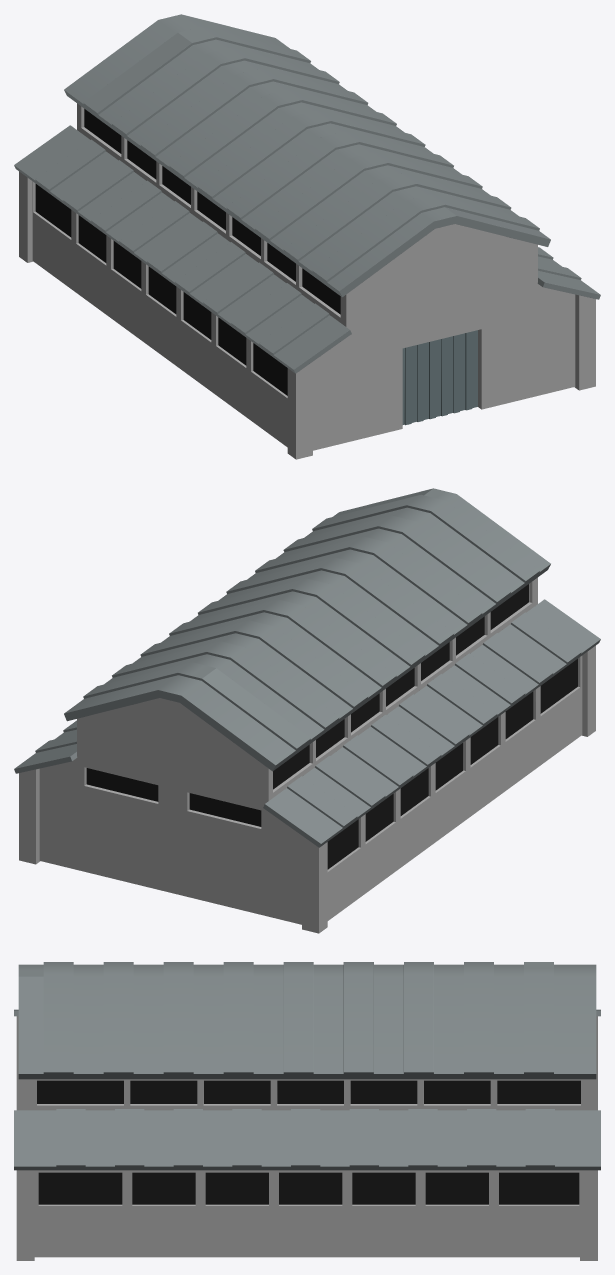
Rendered from Warehouse Exterior.fbx.
3 renders of one model, top to bottom at view 1: azimuth 30°, elevation 25°; view 2: azimuth 150°, elevation 25°; view 3: azimuth 270°, elevation 25°, orthographic. The views are drawn at different scales.
Parts seen in each view (by area): view 1: Warehouse_Exterior; view 2: Warehouse_Exterior; view 3: Warehouse_Exterior.
Part boxes in pixels (left/top/right/bottom): Warehouse_Exterior: left=14, top=14, right=600, bottom=459; Warehouse_Exterior: left=14, top=488, right=600, bottom=933; Warehouse_Exterior: left=14, top=962, right=600, bottom=1260.
Bounding box in the file's own units: 12745 × 8124 × 20007.
